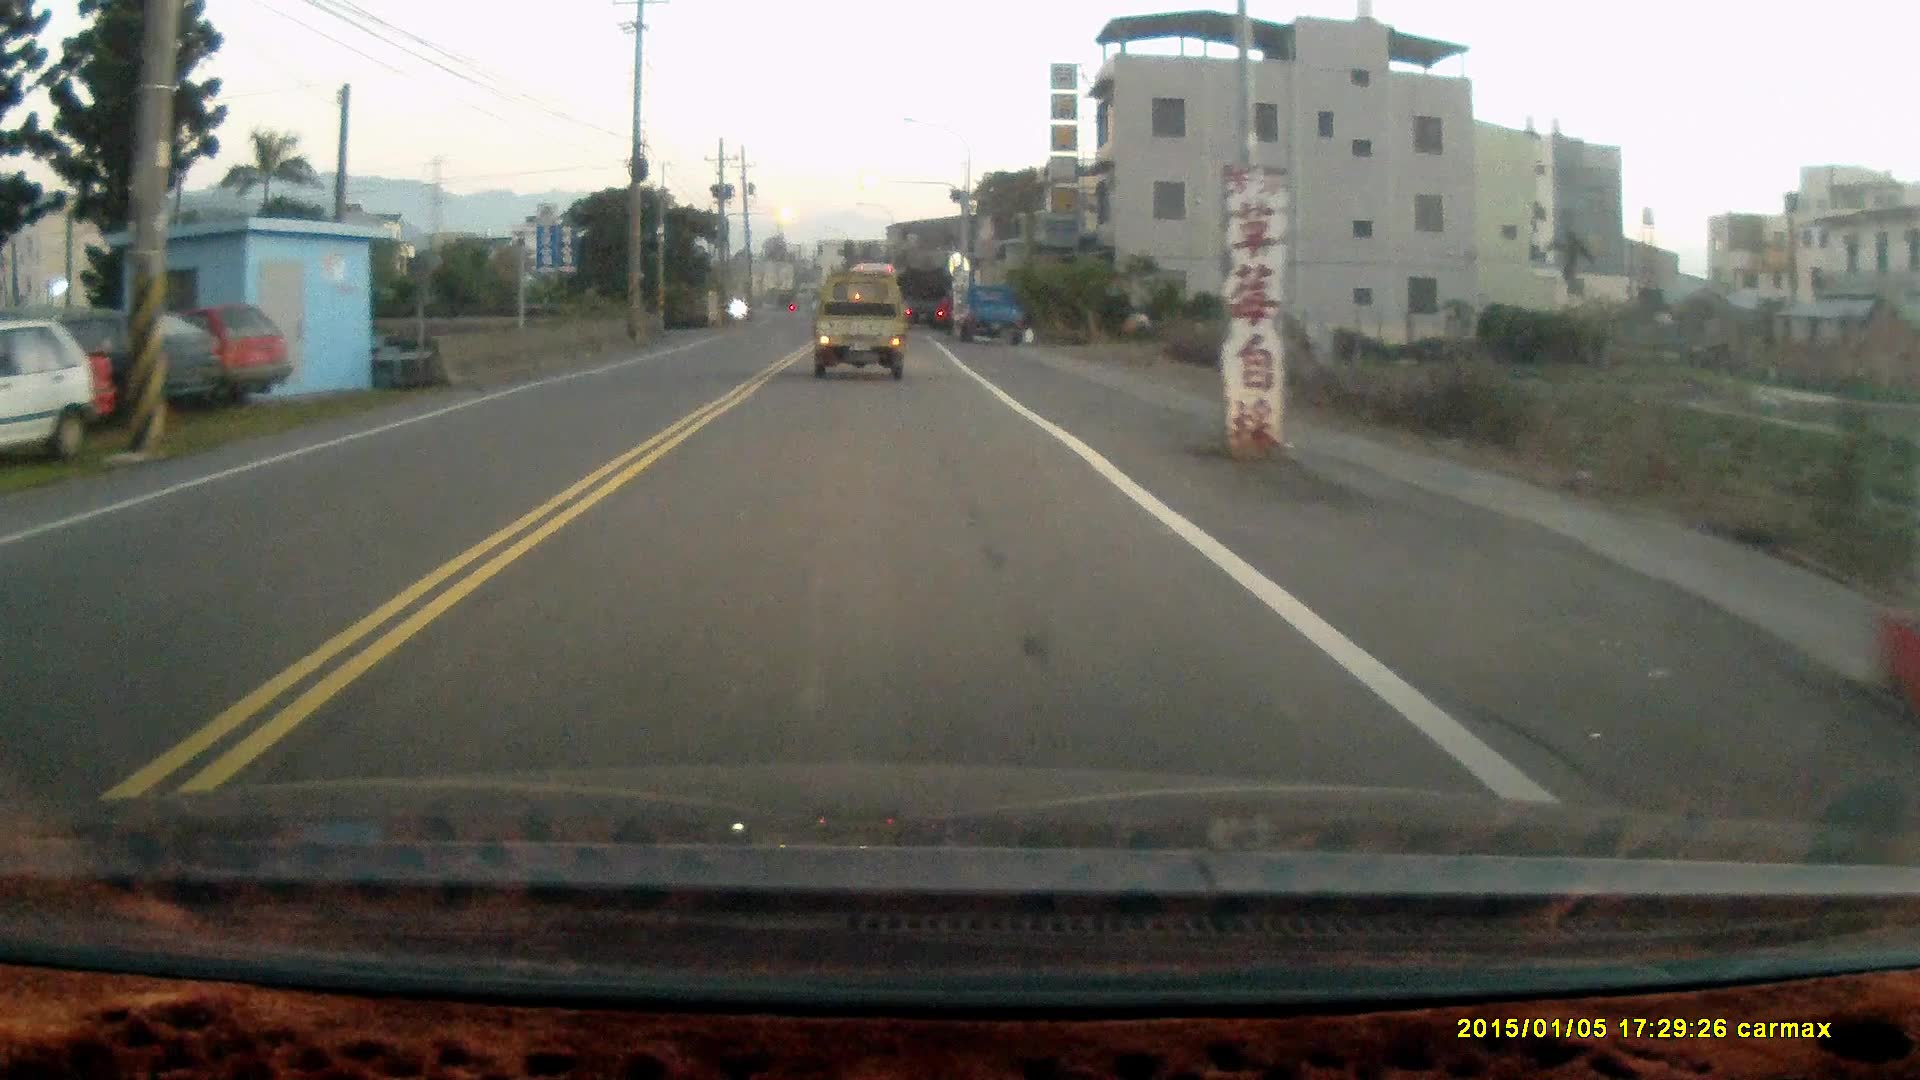vehicle: (15, 303, 235, 419), (65, 297, 282, 402), (1, 316, 99, 465), (814, 277, 911, 377), (957, 278, 1033, 342), (895, 262, 953, 328)
